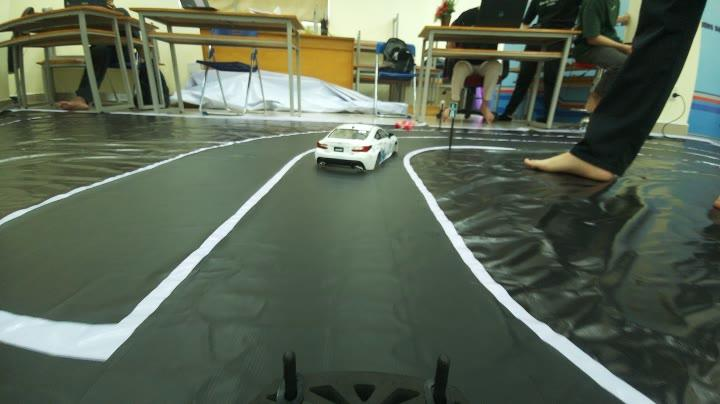car: (306, 124, 403, 176)
